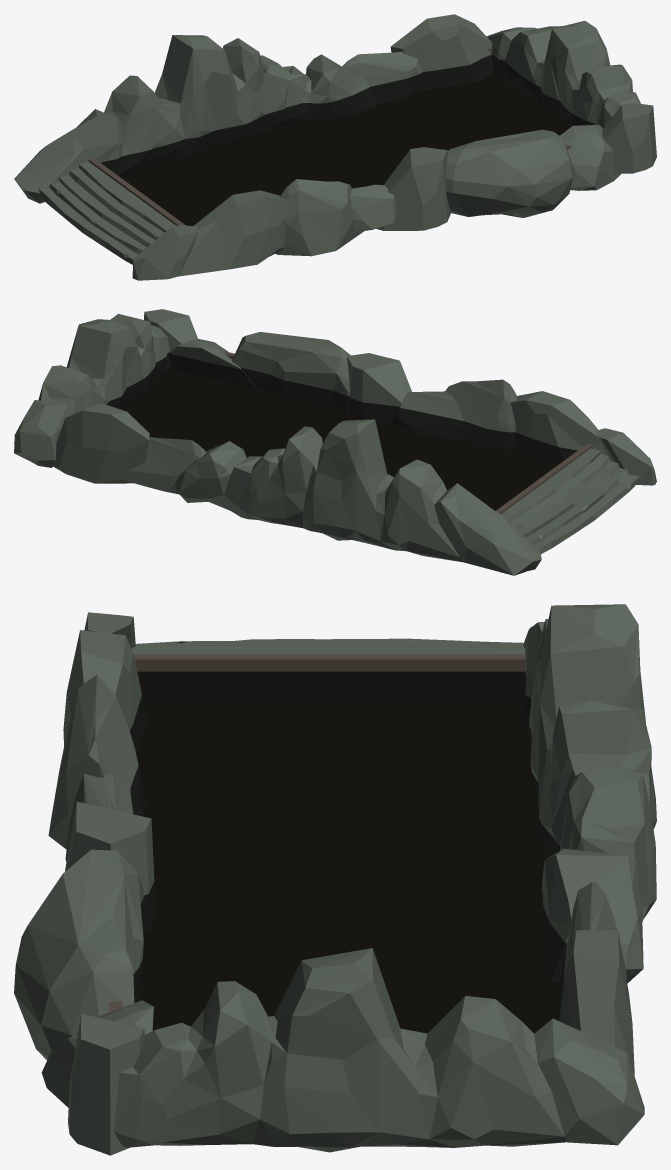
Rendered from pool.glb.
3 views of the same model, one above another, from view 1: azimuth 30°, elevation 25°; view 2: azimuth 150°, elevation 25°; view 3: azimuth 270°, elevation 25° (orthographic). The views are drawn at different scales.
Visible parts, largest first — view 1: pool; view 2: pool; view 3: pool.
Part boxes in pixels (box(x1,y1,x2,y2)): pool: box(14, 14, 656, 280); pool: box(14, 309, 656, 575); pool: box(14, 604, 656, 1155).
Size of what is drawn, in the model's own units: 20.99 by 5.12 by 11.3.
Materials: 2 (2 with a texture image).
